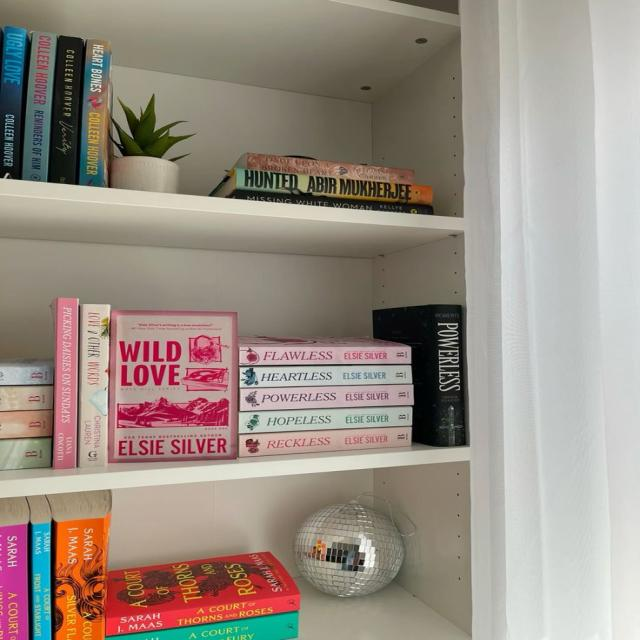book: (104, 593, 301, 638), (236, 168, 433, 204), (58, 522, 104, 640), (107, 612, 298, 640), (48, 35, 84, 183), (22, 31, 57, 181), (78, 304, 110, 468), (238, 427, 412, 457), (248, 153, 416, 184), (429, 305, 465, 448), (77, 39, 110, 187), (239, 407, 411, 434), (237, 191, 433, 214), (52, 297, 78, 469), (240, 385, 412, 411), (0, 26, 27, 179), (239, 366, 412, 388), (1, 528, 26, 640), (238, 347, 412, 363), (31, 523, 51, 639), (0, 438, 50, 470), (0, 410, 50, 438), (0, 360, 51, 386), (0, 386, 51, 410)
plants: (110, 95, 195, 193)
